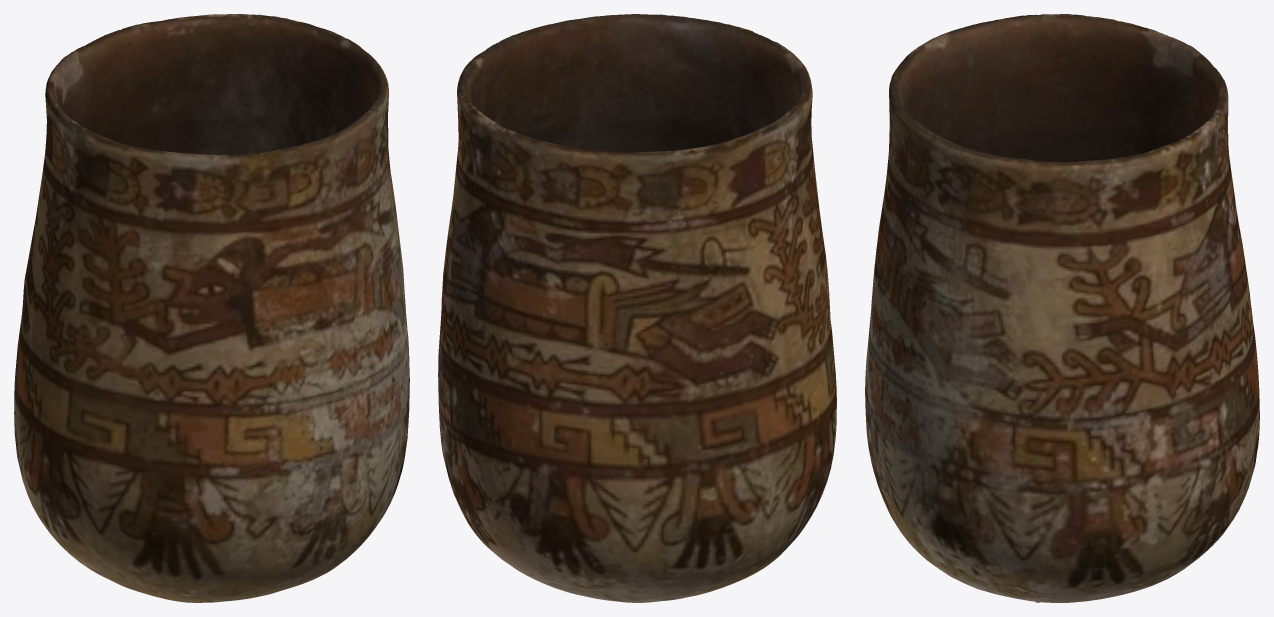
File: cma-nasca-painted-vase.glb
3 views of the same model, side by side, from view 1: azimuth 30°, elevation 25°; view 2: azimuth 150°, elevation 25°; view 3: azimuth 270°, elevation 25° (orthographic).
Parts seen in each view (by area): view 1: 1930.728_vase_with_trophy-heads_and_warriors; view 2: 1930.728_vase_with_trophy-heads_and_warriors; view 3: 1930.728_vase_with_trophy-heads_and_warriors.
Boxes of the visible parts, x1=… form: 1930.728_vase_with_trophy-heads_and_warriors: x1=14, y1=14, x2=409, y2=602; 1930.728_vase_with_trophy-heads_and_warriors: x1=438, y1=14, x2=836, y2=602; 1930.728_vase_with_trophy-heads_and_warriors: x1=865, y1=14, x2=1259, y2=602.
Size of the model in its own units: 0.1417 by 0.194 by 0.1406.
1 material, 1 textured.
